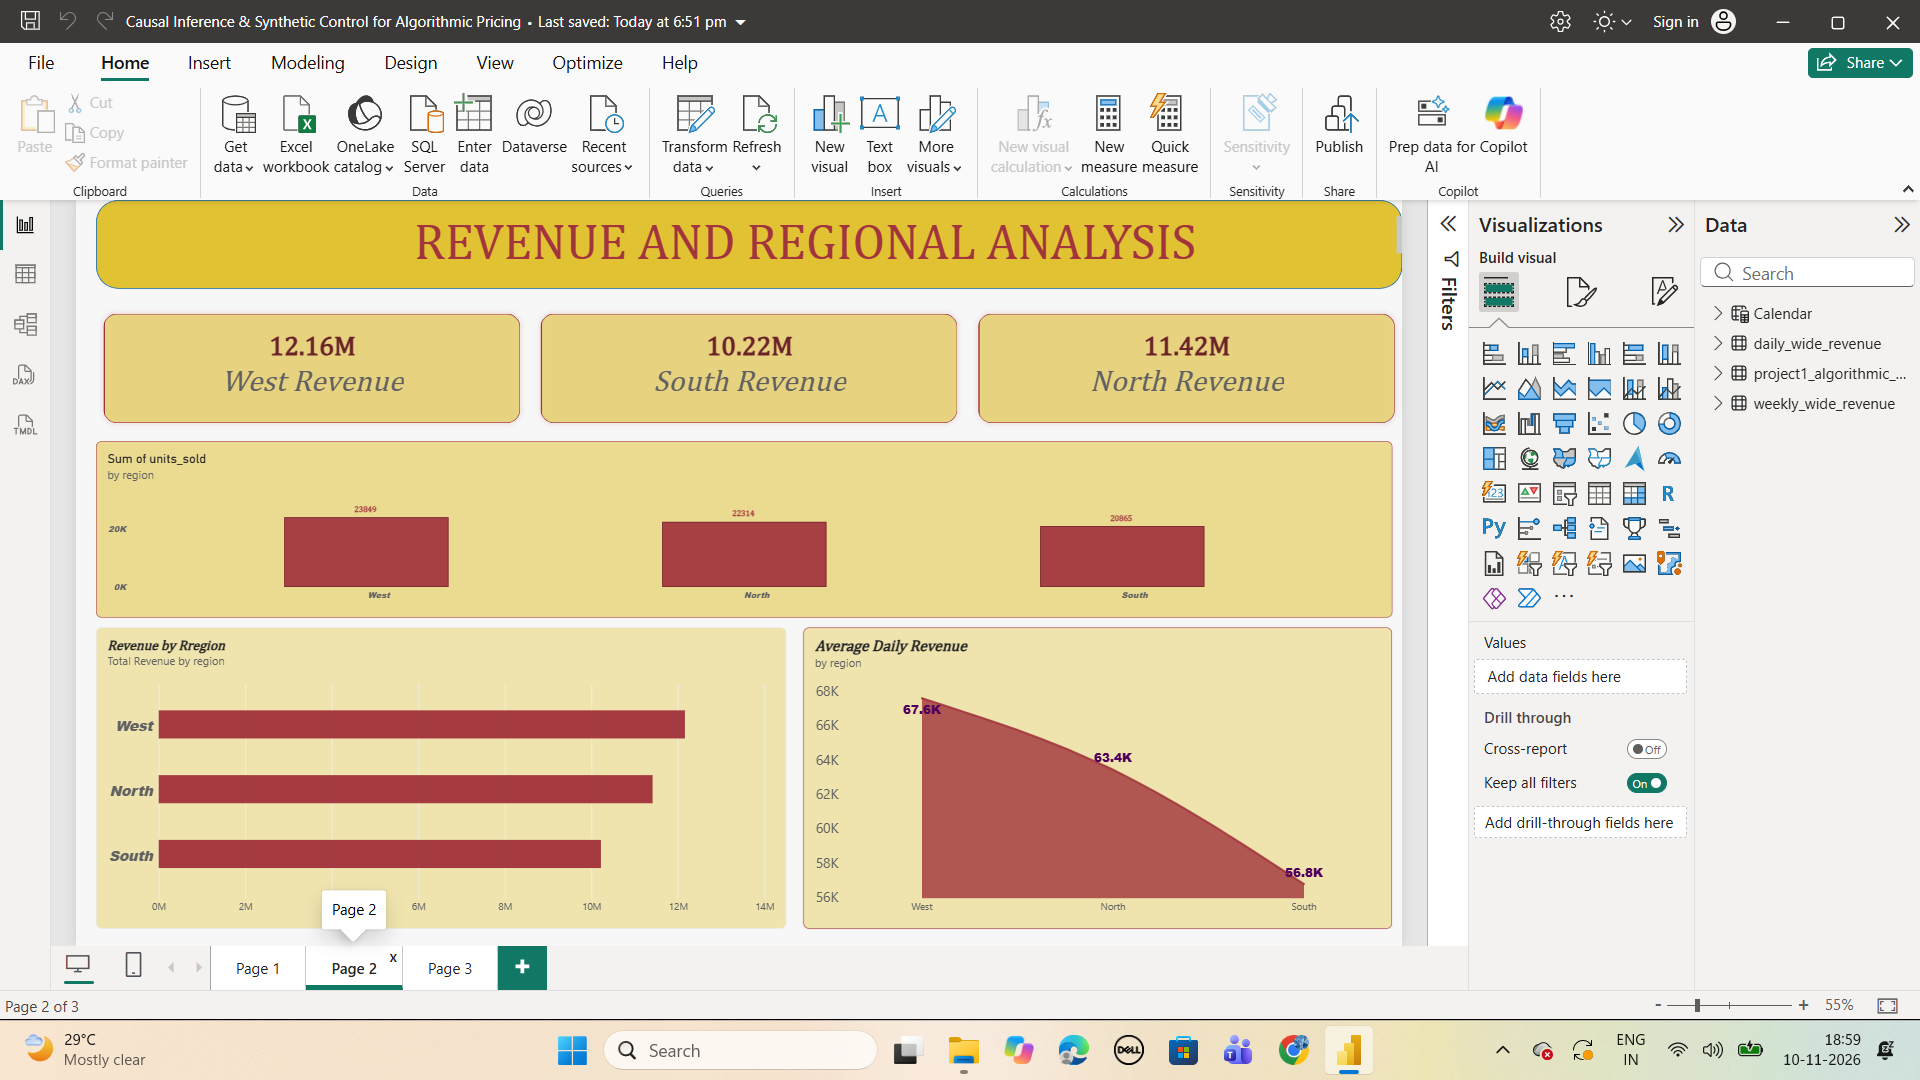

The page's visual inventory and layout, read from the dashboard file:
{"tool":"powerbi","page":{"name":"Page 2","canvas":[1920,1080],"ordinal":1},"visuals":[{"type":"shape","box":[29,0,1891.1,128.5],"z":0},{"type":"textbox","box":[488.6,23.5,1431.4,67],"z":1000},{"type":"clusteredBarChart","title":"Revenue by Rregion","fields":{"Category":["project1_algorithmic_pricing_synthetic_dataset.region"],"Y":["weekly_wide_revenue.Total Revenue"]},"box":[29,618.9,998.9,436.1],"z":2000},{"type":"cardVisual","fields":{"Data":["weekly_wide_revenue.West Revenue","weekly_wide_revenue.South Revenue","weekly_wide_revenue.North Revenue"]},"box":[29,153.8,1891.1,181],"z":3000},{"type":"columnChart","fields":{"Category":["project1_algorithmic_pricing_synthetic_dataset.region"],"Y":["Sum(project1_algorithmic_pricing_synthetic_dataset.units_sold)"]},"box":[29,349.3,1876.6,255.2],"z":4000},{"type":"areaChart","fields":{"Category":["project1_algorithmic_pricing_synthetic_dataset.region"],"Y":["weekly_wide_revenue.Average Daily Revenue"]},"box":[1053.2,618.9,852.4,436.1],"z":5000}]}

Visuals, with their boxes on the page's 1920x1080 design canvas (x1, y1, x2, y2). These are canvas units, not pixel positions in the 1920x1080 screenshot, which may show the page scaled, cropped or inside an application window:
shape: 29/0/1920/128
textbox: 489/24/1920/90
"Revenue by Rregion" clusteredBarChart: 29/619/1028/1055
cardVisual - weekly_wide_revenue.West Revenue x weekly_wide_revenue.South Revenue: 29/154/1920/335
columnChart - project1_algorithmic_pricing_synthetic_dataset.region x Sum(project1_algorithmic_pricing_synthetic_dataset.units_sold): 29/349/1906/604
areaChart - project1_algorithmic_pricing_synthetic_dataset.region x weekly_wide_revenue.Average Daily Revenue: 1053/619/1906/1055
